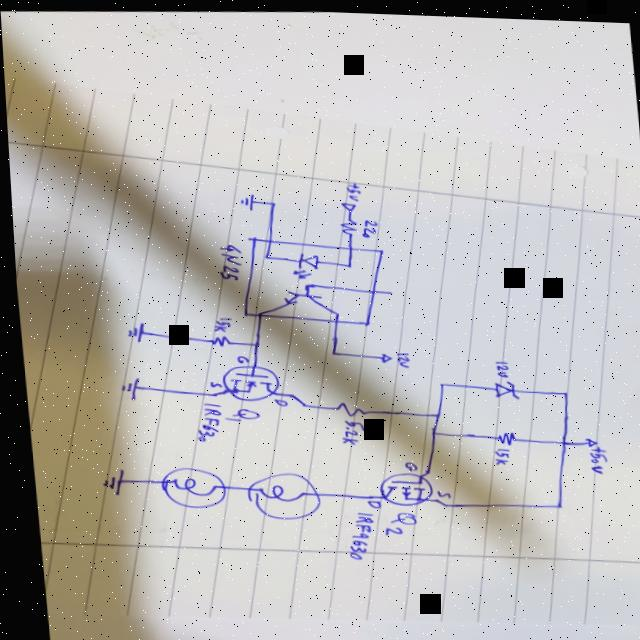diode: (486, 376, 514, 395)
ground: (94, 467, 122, 495), (114, 374, 138, 401), (120, 319, 142, 342), (235, 190, 254, 209)
junction: (244, 338, 258, 347), (546, 498, 559, 506), (426, 408, 439, 415), (423, 426, 435, 433), (324, 346, 334, 353), (555, 386, 566, 392), (433, 378, 443, 384), (553, 435, 563, 441), (294, 400, 303, 406), (282, 390, 291, 396), (266, 198, 274, 204), (426, 494, 434, 500), (206, 390, 214, 396), (435, 500, 443, 505), (418, 467, 425, 472)
resistor: (327, 398, 362, 414), (335, 214, 358, 233), (489, 426, 511, 442), (205, 332, 228, 346)
source: (373, 348, 389, 361), (337, 198, 355, 209), (578, 432, 593, 443)
terminal: (381, 284, 395, 294)
text: (335, 508, 374, 559), (187, 400, 220, 441), (213, 241, 242, 280), (375, 507, 413, 535), (332, 416, 363, 444), (582, 440, 603, 470), (222, 404, 256, 420), (340, 178, 361, 199), (356, 215, 378, 235), (206, 314, 230, 331), (485, 443, 505, 462), (489, 355, 507, 375), (390, 348, 408, 366), (360, 495, 377, 506), (268, 394, 284, 405), (430, 485, 447, 495), (397, 458, 411, 468), (203, 378, 218, 387), (231, 353, 245, 362)
transistor: (211, 357, 276, 400), (370, 464, 431, 505)
